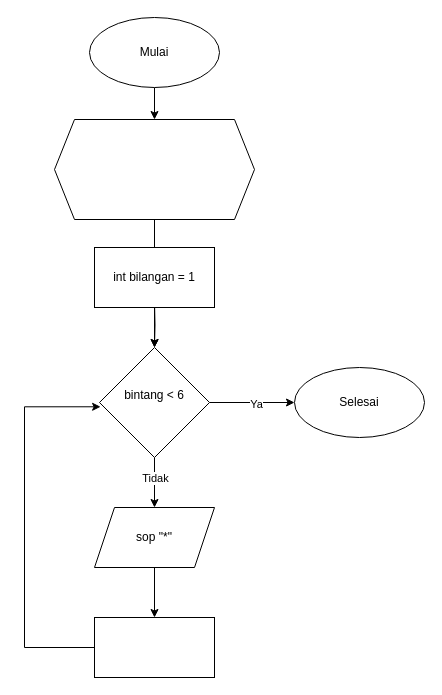
The diagram is 442 pixels wide and 695 high, and some of its shapes have lost their labels. Here are the shapes that lost their labels. From the top down, the centre of each, then its label:
At [154,169]: "I = P = int bintang O =".
At [154,647]: "bilangan++".
